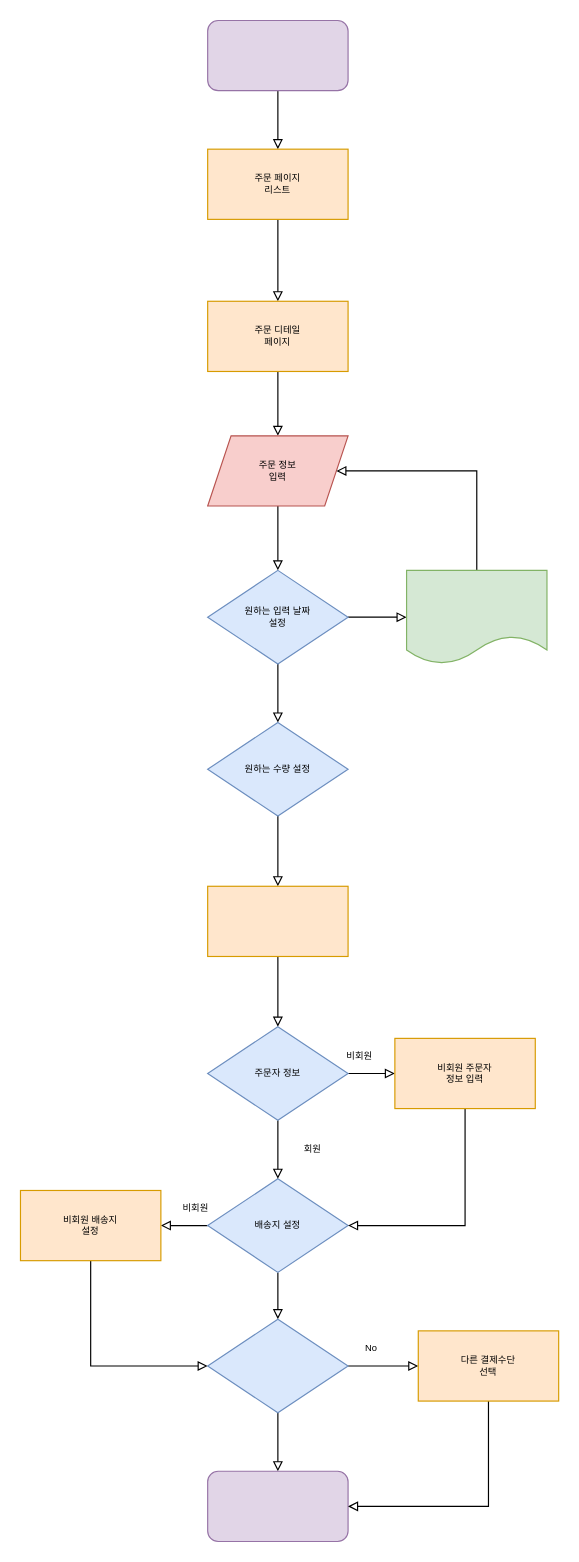
Some shapes in this 579 by 1562 pixel diagram are drawn without their labels. The shapes that lost their labels are listed below. From the top down, each one's box as (x1, y1, x2, y2) in pixels, then its label:
(207, 19, 348, 91): 주문
(405, 569, 547, 664): 원하시는 날짜를 선택해주세요
(207, 885, 348, 956): 장바구니 페이지
(207, 1318, 348, 1413): 카카오페이 결제
(207, 1470, 348, 1541): 결제하기
